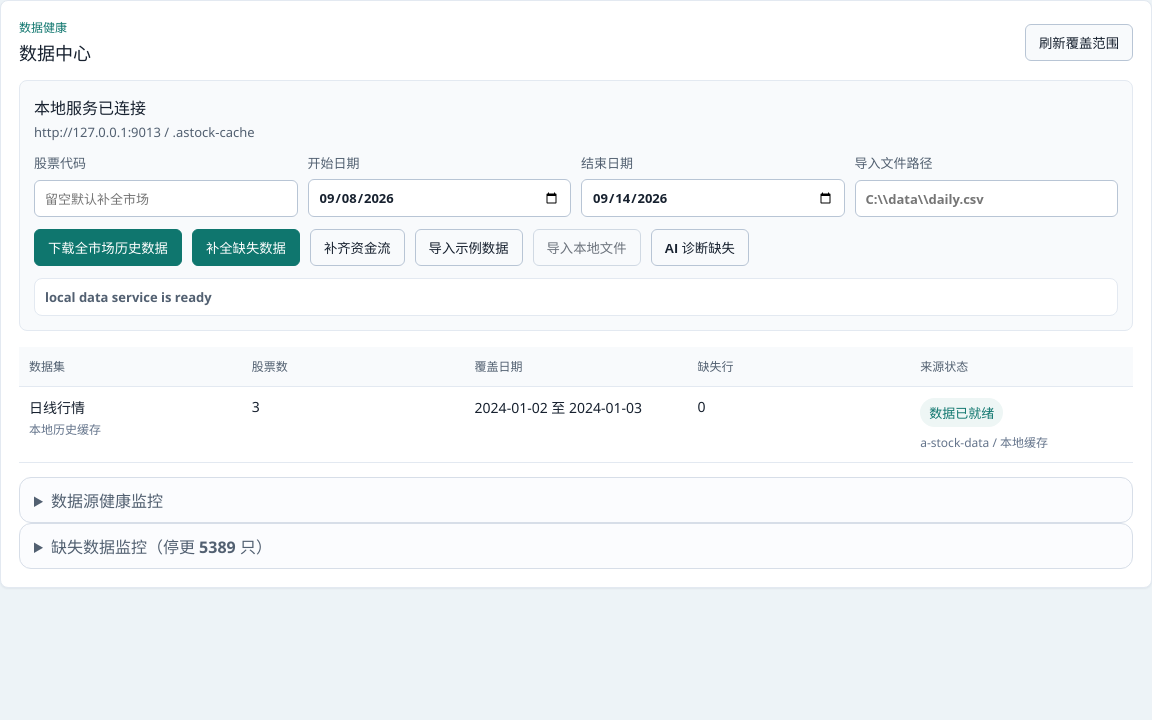
Test: DataCenter lifecycle badges › marks delisted and not-yet-listed symbols in the coverage details
Expected: the text "http://127.0.0.1:9013 / .astock-cache" is shown, [34,123,254,141]
Type "600519 NEW001 DEAD1" into the field labelled "股票代码" at (166, 198), box [34,180,298,217]
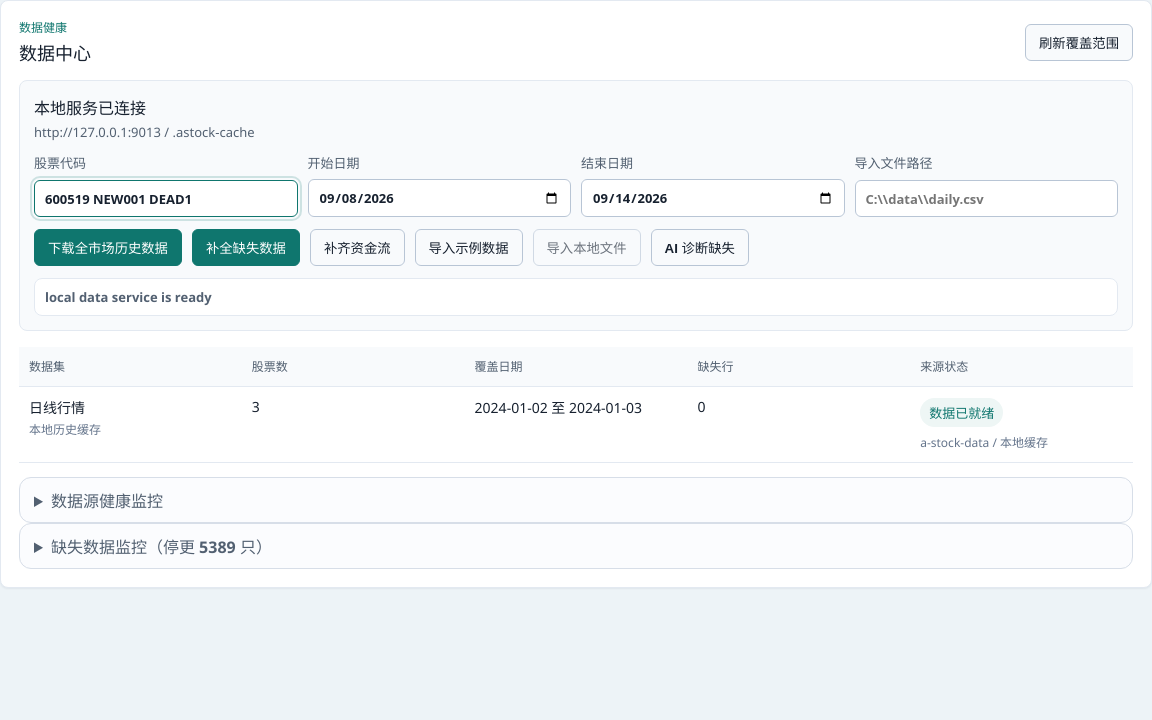
Click the button "刷新覆盖范围" at (1079, 42), box [1025,24,1133,61]
(page scrolled)
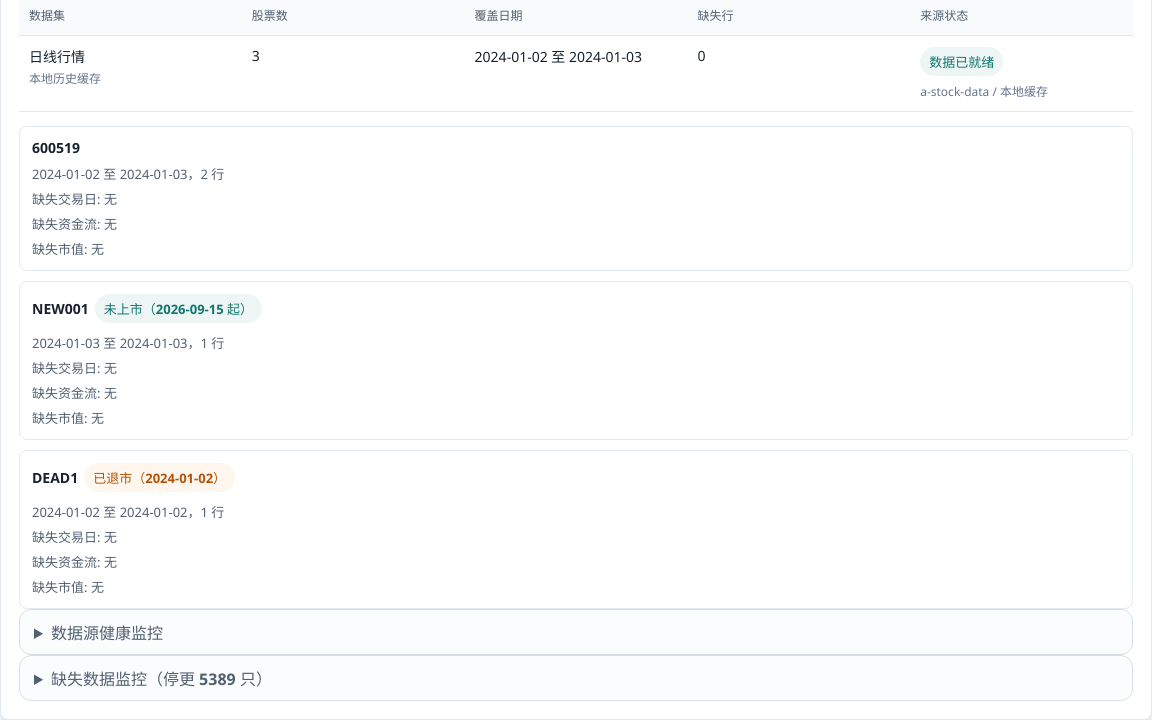
Expected: the text "已退市（2024-01-02）" is shown, [84,463,235,492]
Expected: the text "未上市（2026-09-15 起）" is shown, [95,294,262,323]
Expected: the text "DEAD1" is shown, [32,469,78,488]
